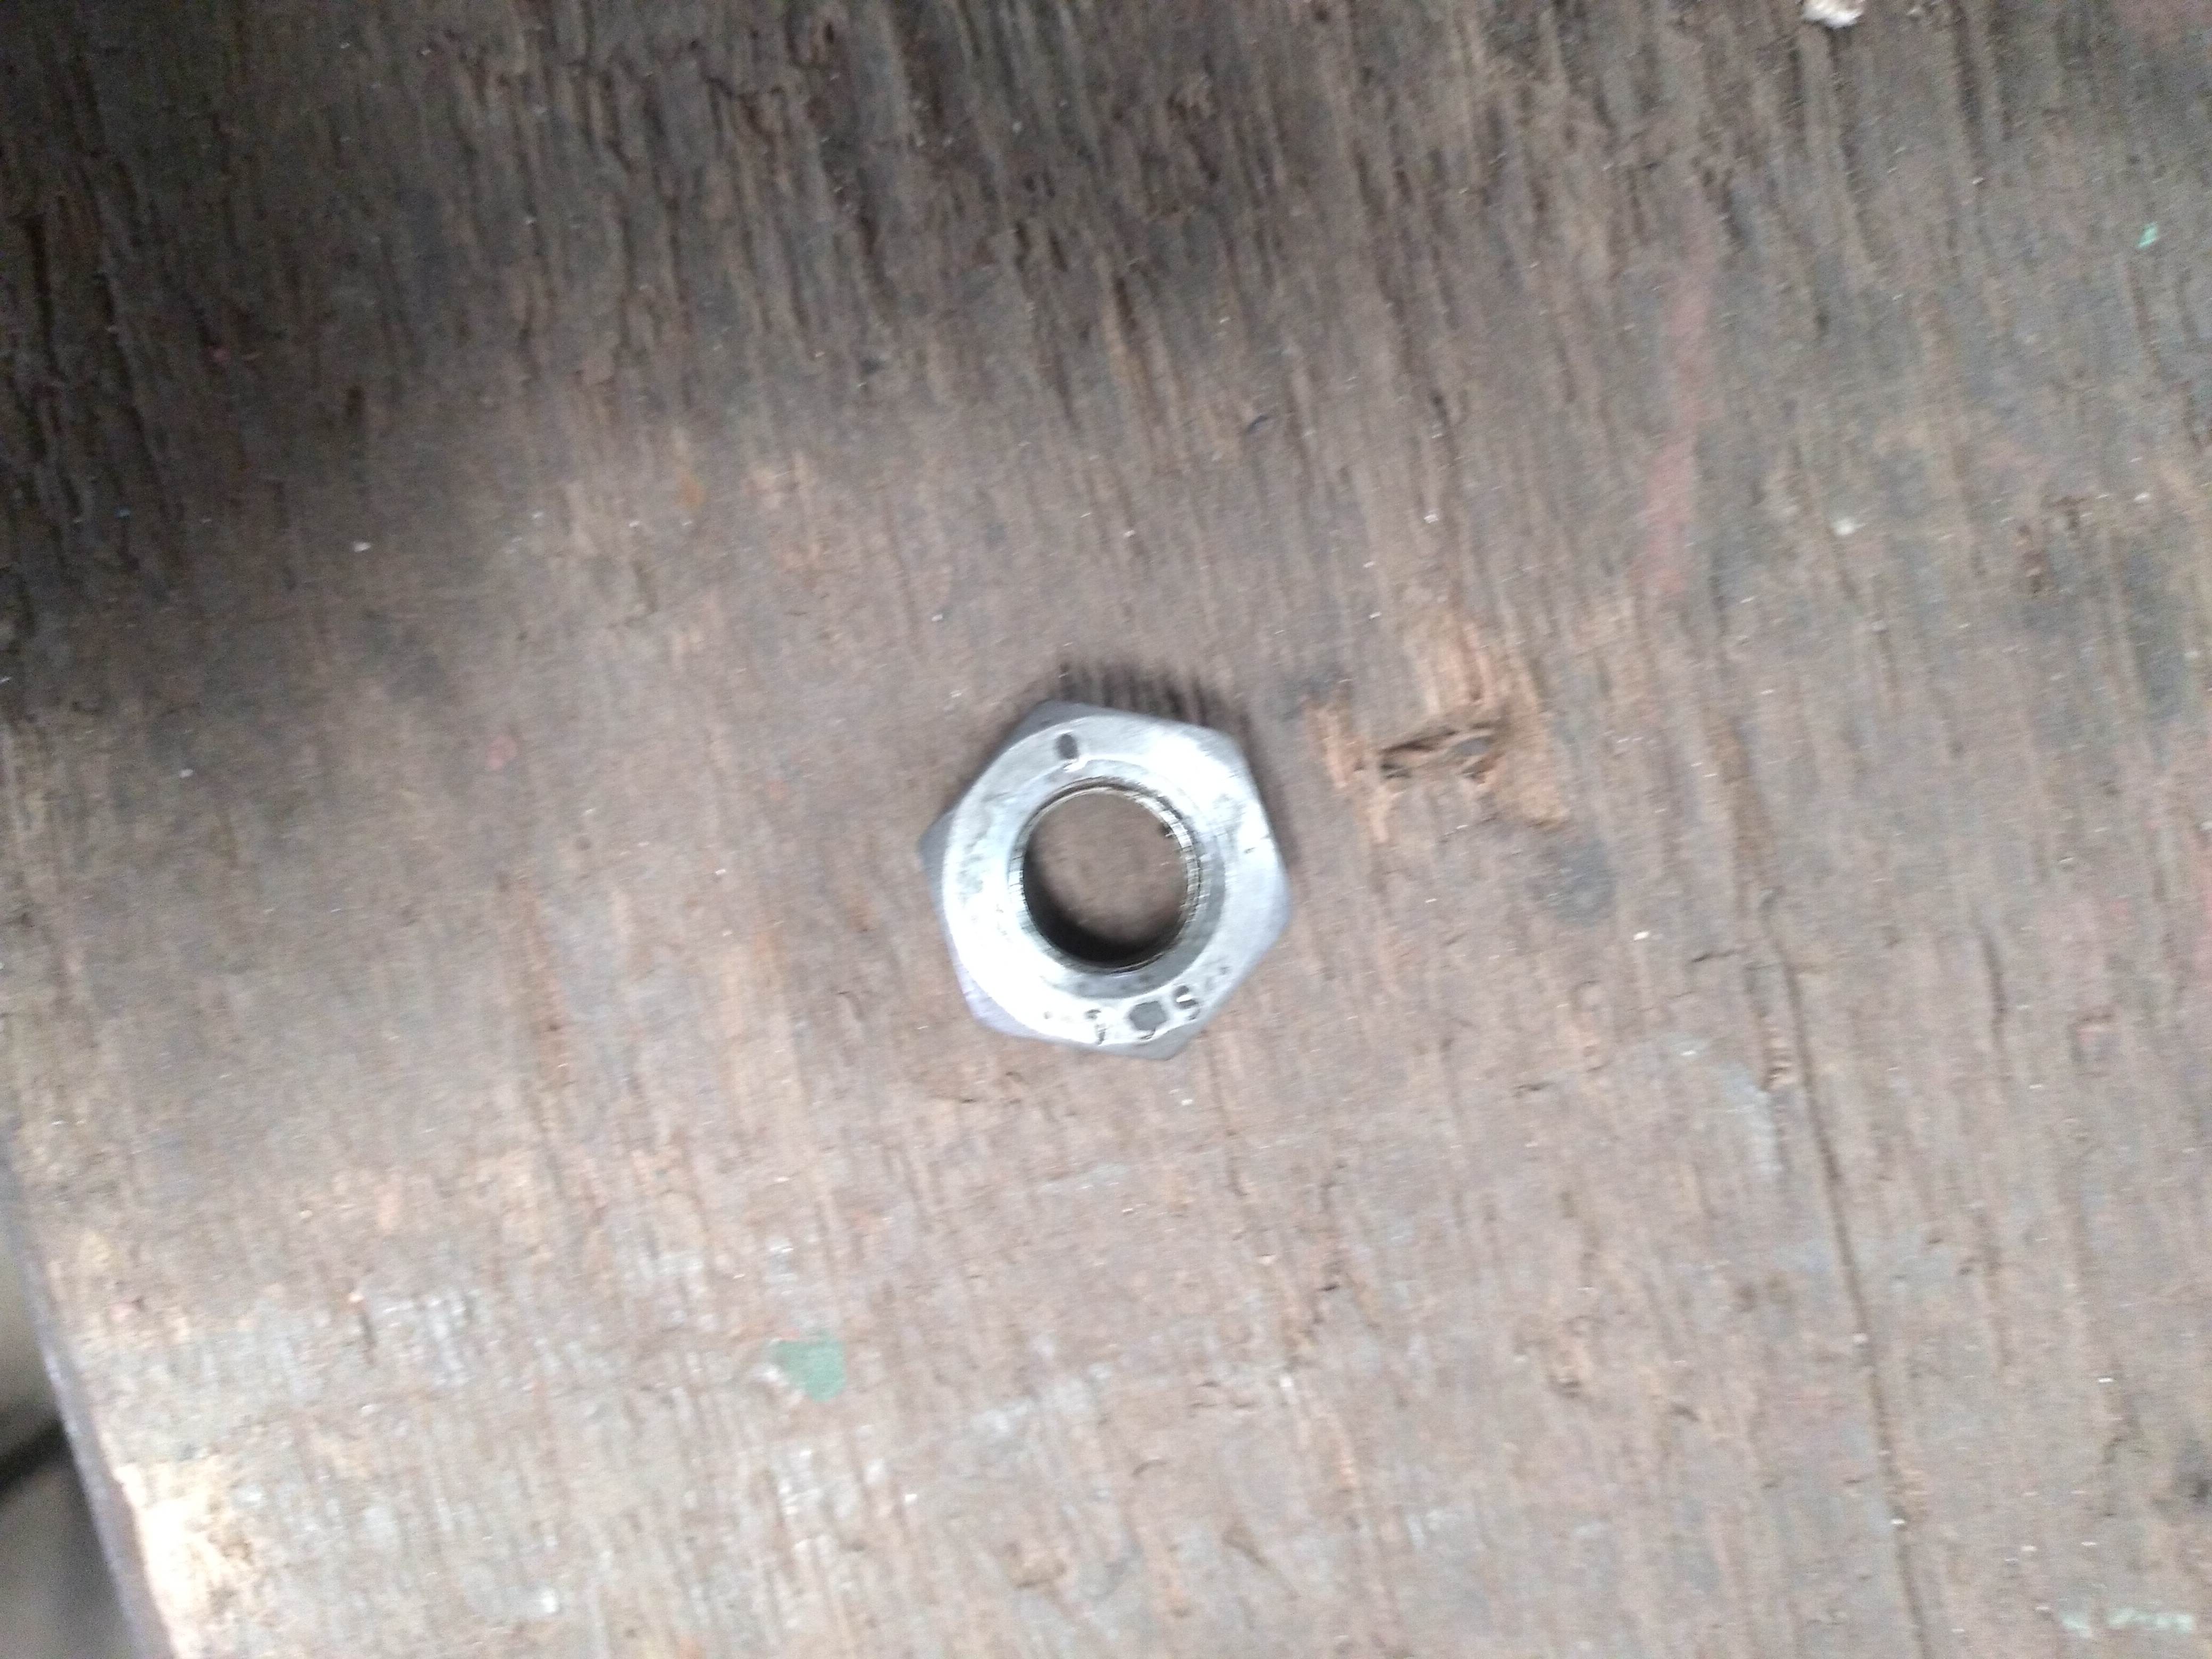Thread: (989, 791, 1238, 1012)
